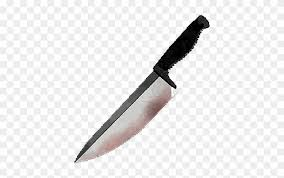knife: (71, 13, 212, 165)
